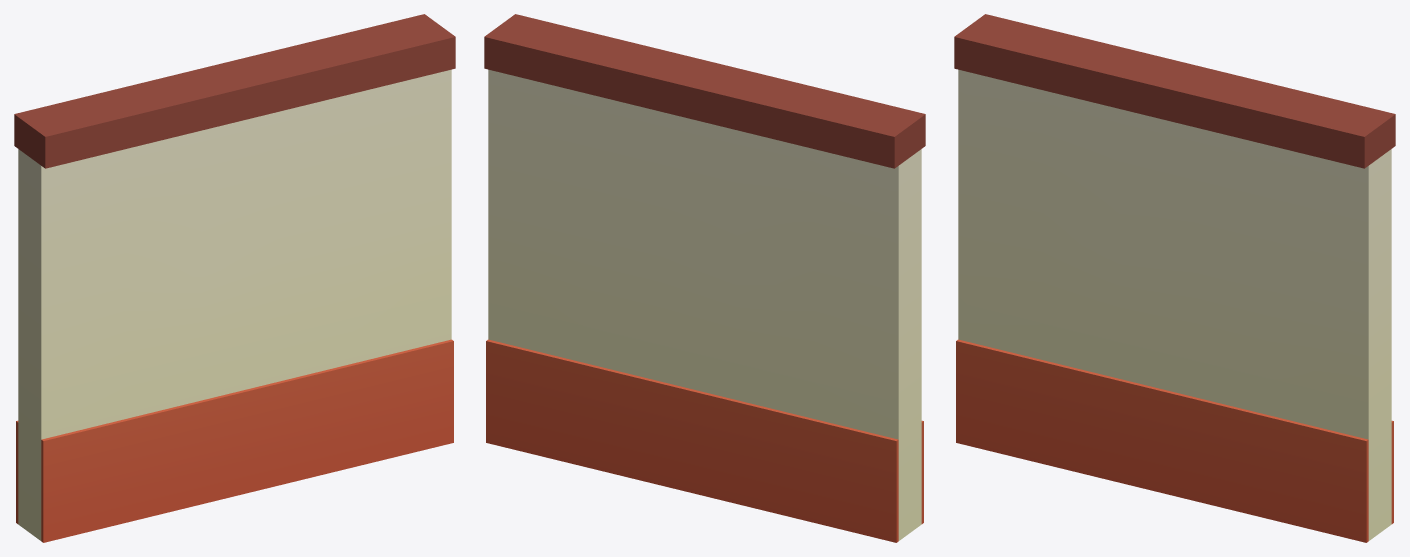
File: Wall_2.fbx
3 renders of one model, left to right at view 1: azimuth 30°, elevation 25°; view 2: azimuth 150°, elevation 25°; view 3: azimuth 330°, elevation 25°, orthographic.
Parts seen in each view (by area): view 1: Wall_2; view 2: Wall_2; view 3: Wall_2.
Boxes of the visible parts, x1,y1,x2,y2 form: Wall_2: [14, 14, 455, 542]; Wall_2: [484, 14, 925, 542]; Wall_2: [954, 14, 1395, 542].
Bounding box in the file's own units: 400 × 380 × 52.74.
